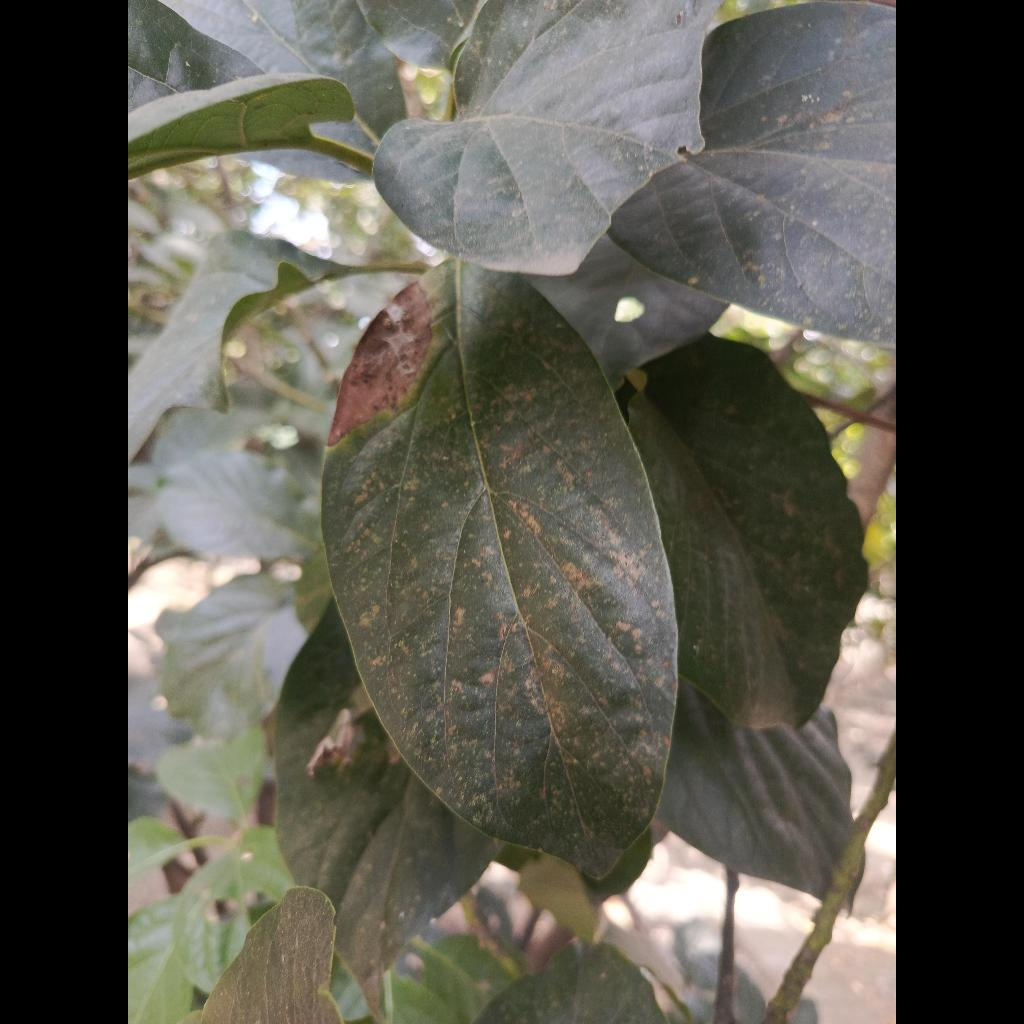Anthracnose: (323, 257, 681, 878)
